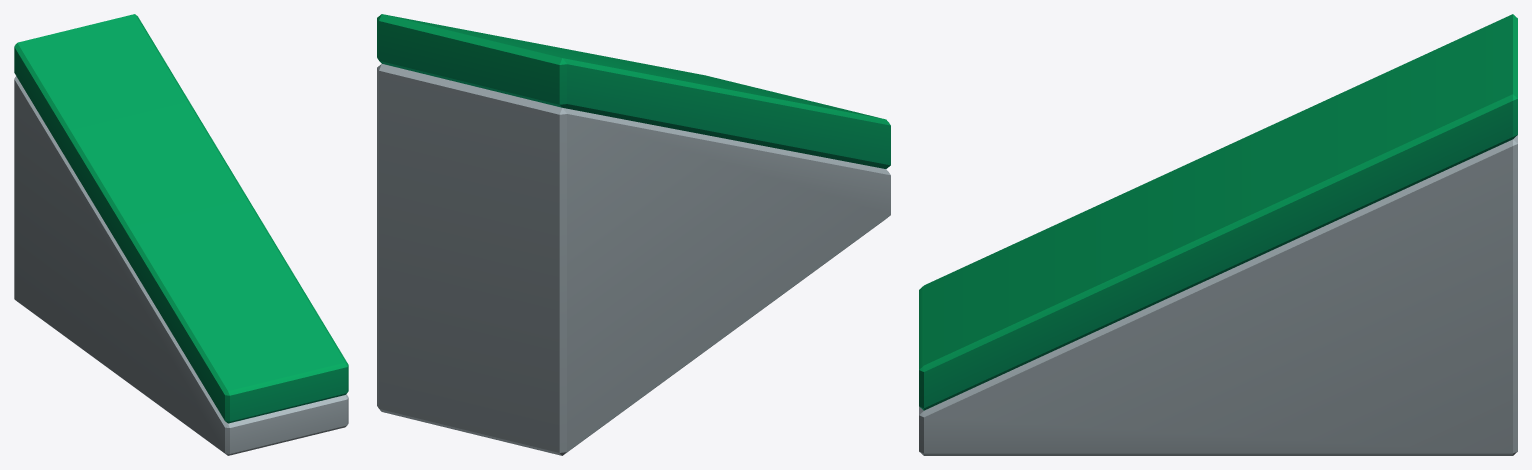
The model's file is platform_slope_2x6x4_green.glb.
The picture shows the model from 3 angles, left to right: view 1: azimuth 30°, elevation 25°; view 2: azimuth 150°, elevation 25°; view 3: azimuth 270°, elevation 25°; orthographic projection. The views are drawn at different scales.
Parts seen in each view (by area): view 1: platform_slope_2x6x4_green; view 2: platform_slope_2x6x4_green; view 3: platform_slope_2x6x4_green.
Boxes of the visible parts, x1,y1,x2,y2 form: platform_slope_2x6x4_green: [14, 14, 348, 455]; platform_slope_2x6x4_green: [377, 14, 890, 455]; platform_slope_2x6x4_green: [919, 14, 1517, 455].
Size of the model in its own units: 2 by 4 by 6.
1 material, 1 textured.
